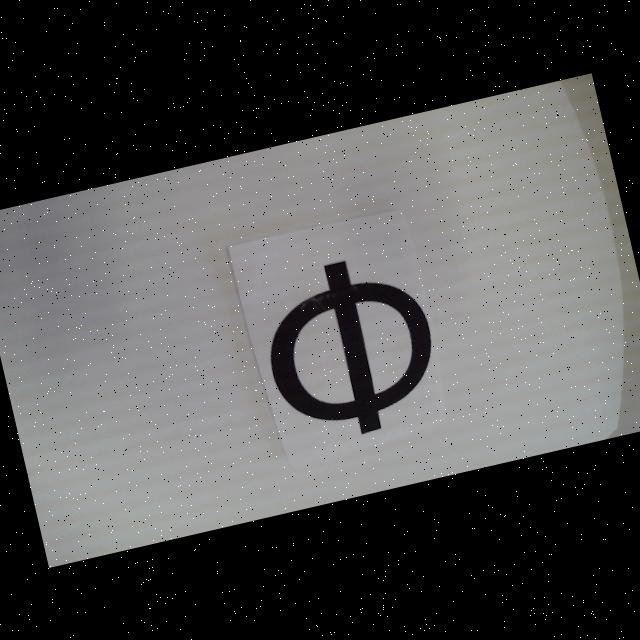PHI: (252, 244, 448, 450)
